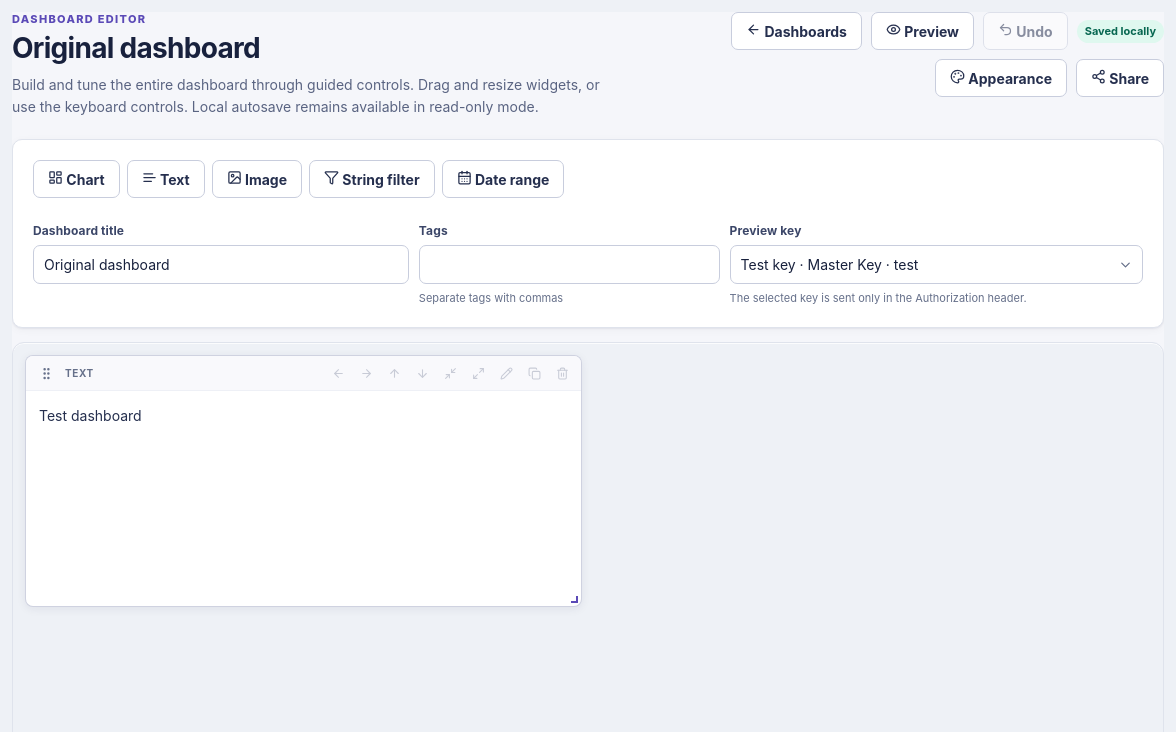
Test: dashboard editor local saving › does not report Saved locally while a newer edit is still pending
Check: the text "Saved locally" is shown, box [1077,20,1164,42]
Replace the text in the field labelled "Dashboard title" with "First edit" at {"x": 221, "y": 265}, box [33,245,409,284]
Wait 900 ms
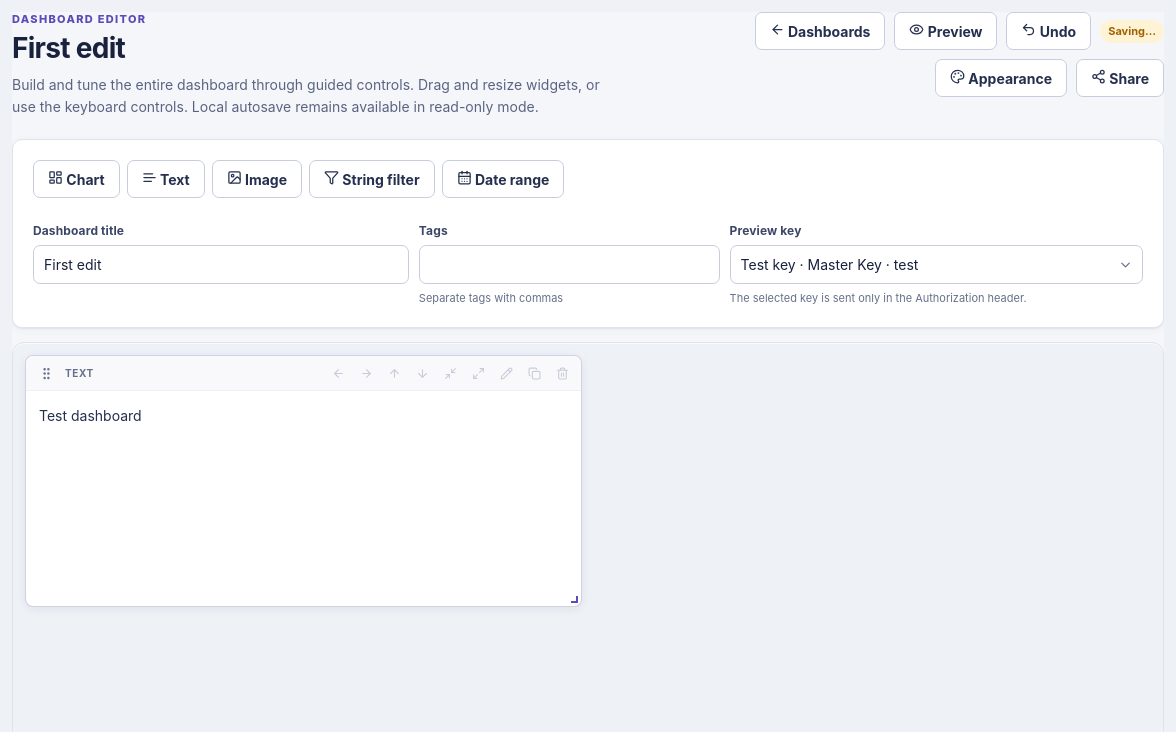
Replace the text in the field labelled "Dashboard title" with "Second edit" at {"x": 221, "y": 265}, box [33,245,409,284]
Wait 900 ms
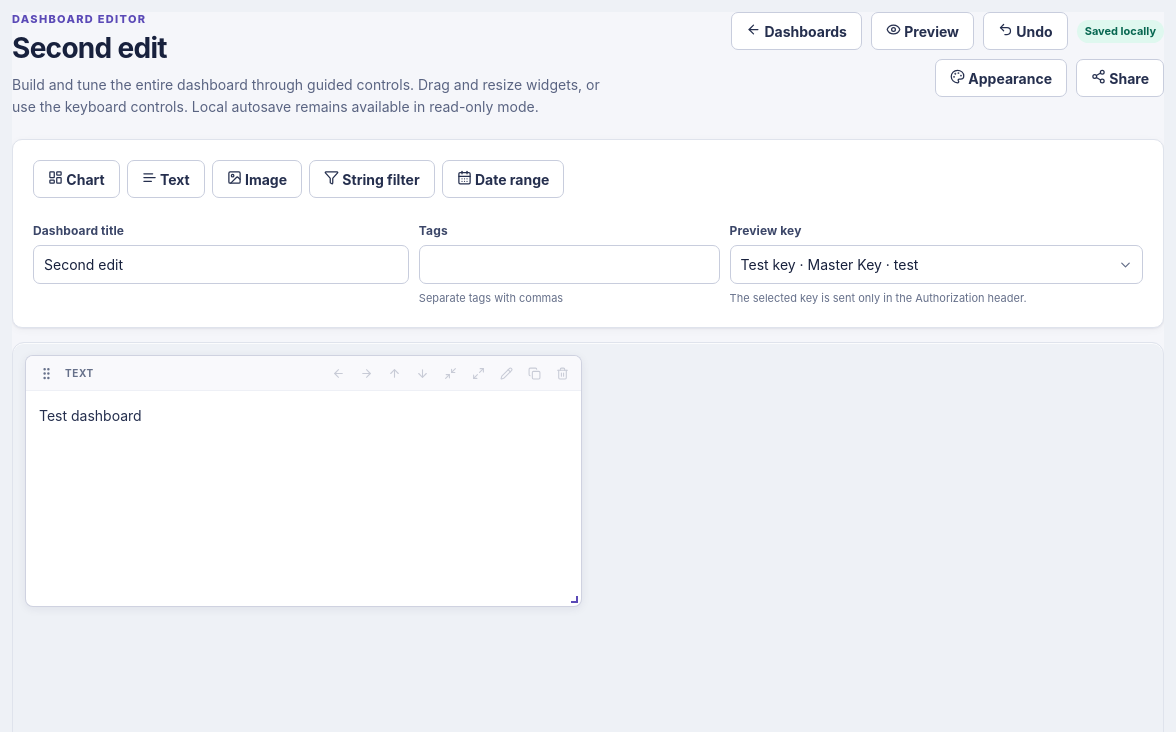
Check: the heading "Second edit" is shown, box [12,31,167,65]
Check: the text "Saved locally" is shown, box [1077,20,1164,42]
